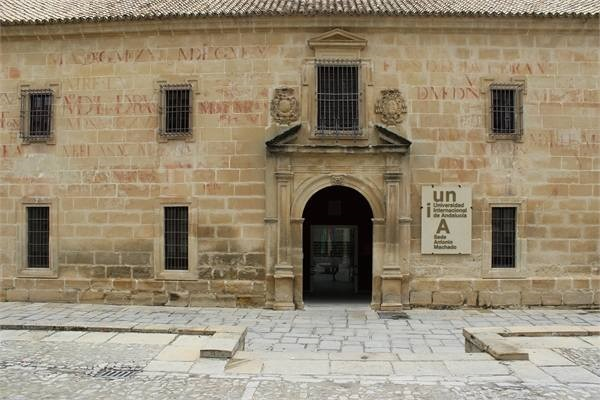arco-medio-punto: (290, 171, 387, 227)
fronton: (304, 27, 373, 48)
fronton-partido: (261, 121, 416, 158)
vano-adintelado: (303, 54, 374, 144), (12, 195, 66, 275), (152, 196, 199, 276), (479, 194, 526, 271), (480, 75, 531, 137), (154, 77, 201, 141), (16, 82, 60, 141)
